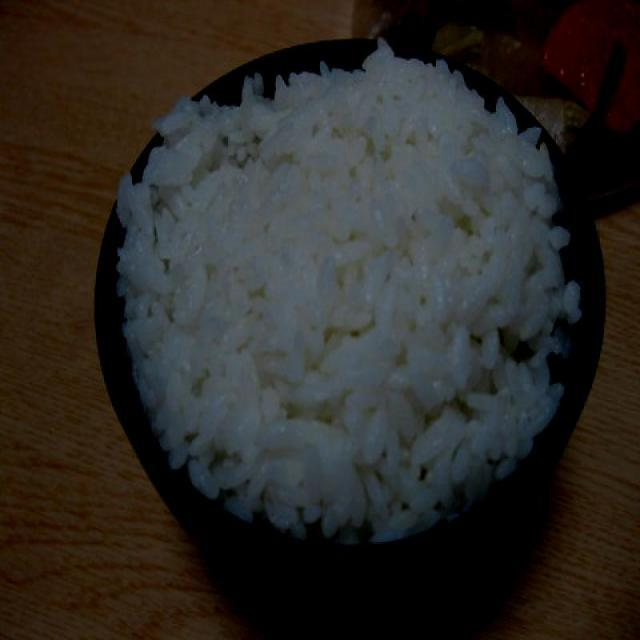rice: (118, 40, 585, 551)
